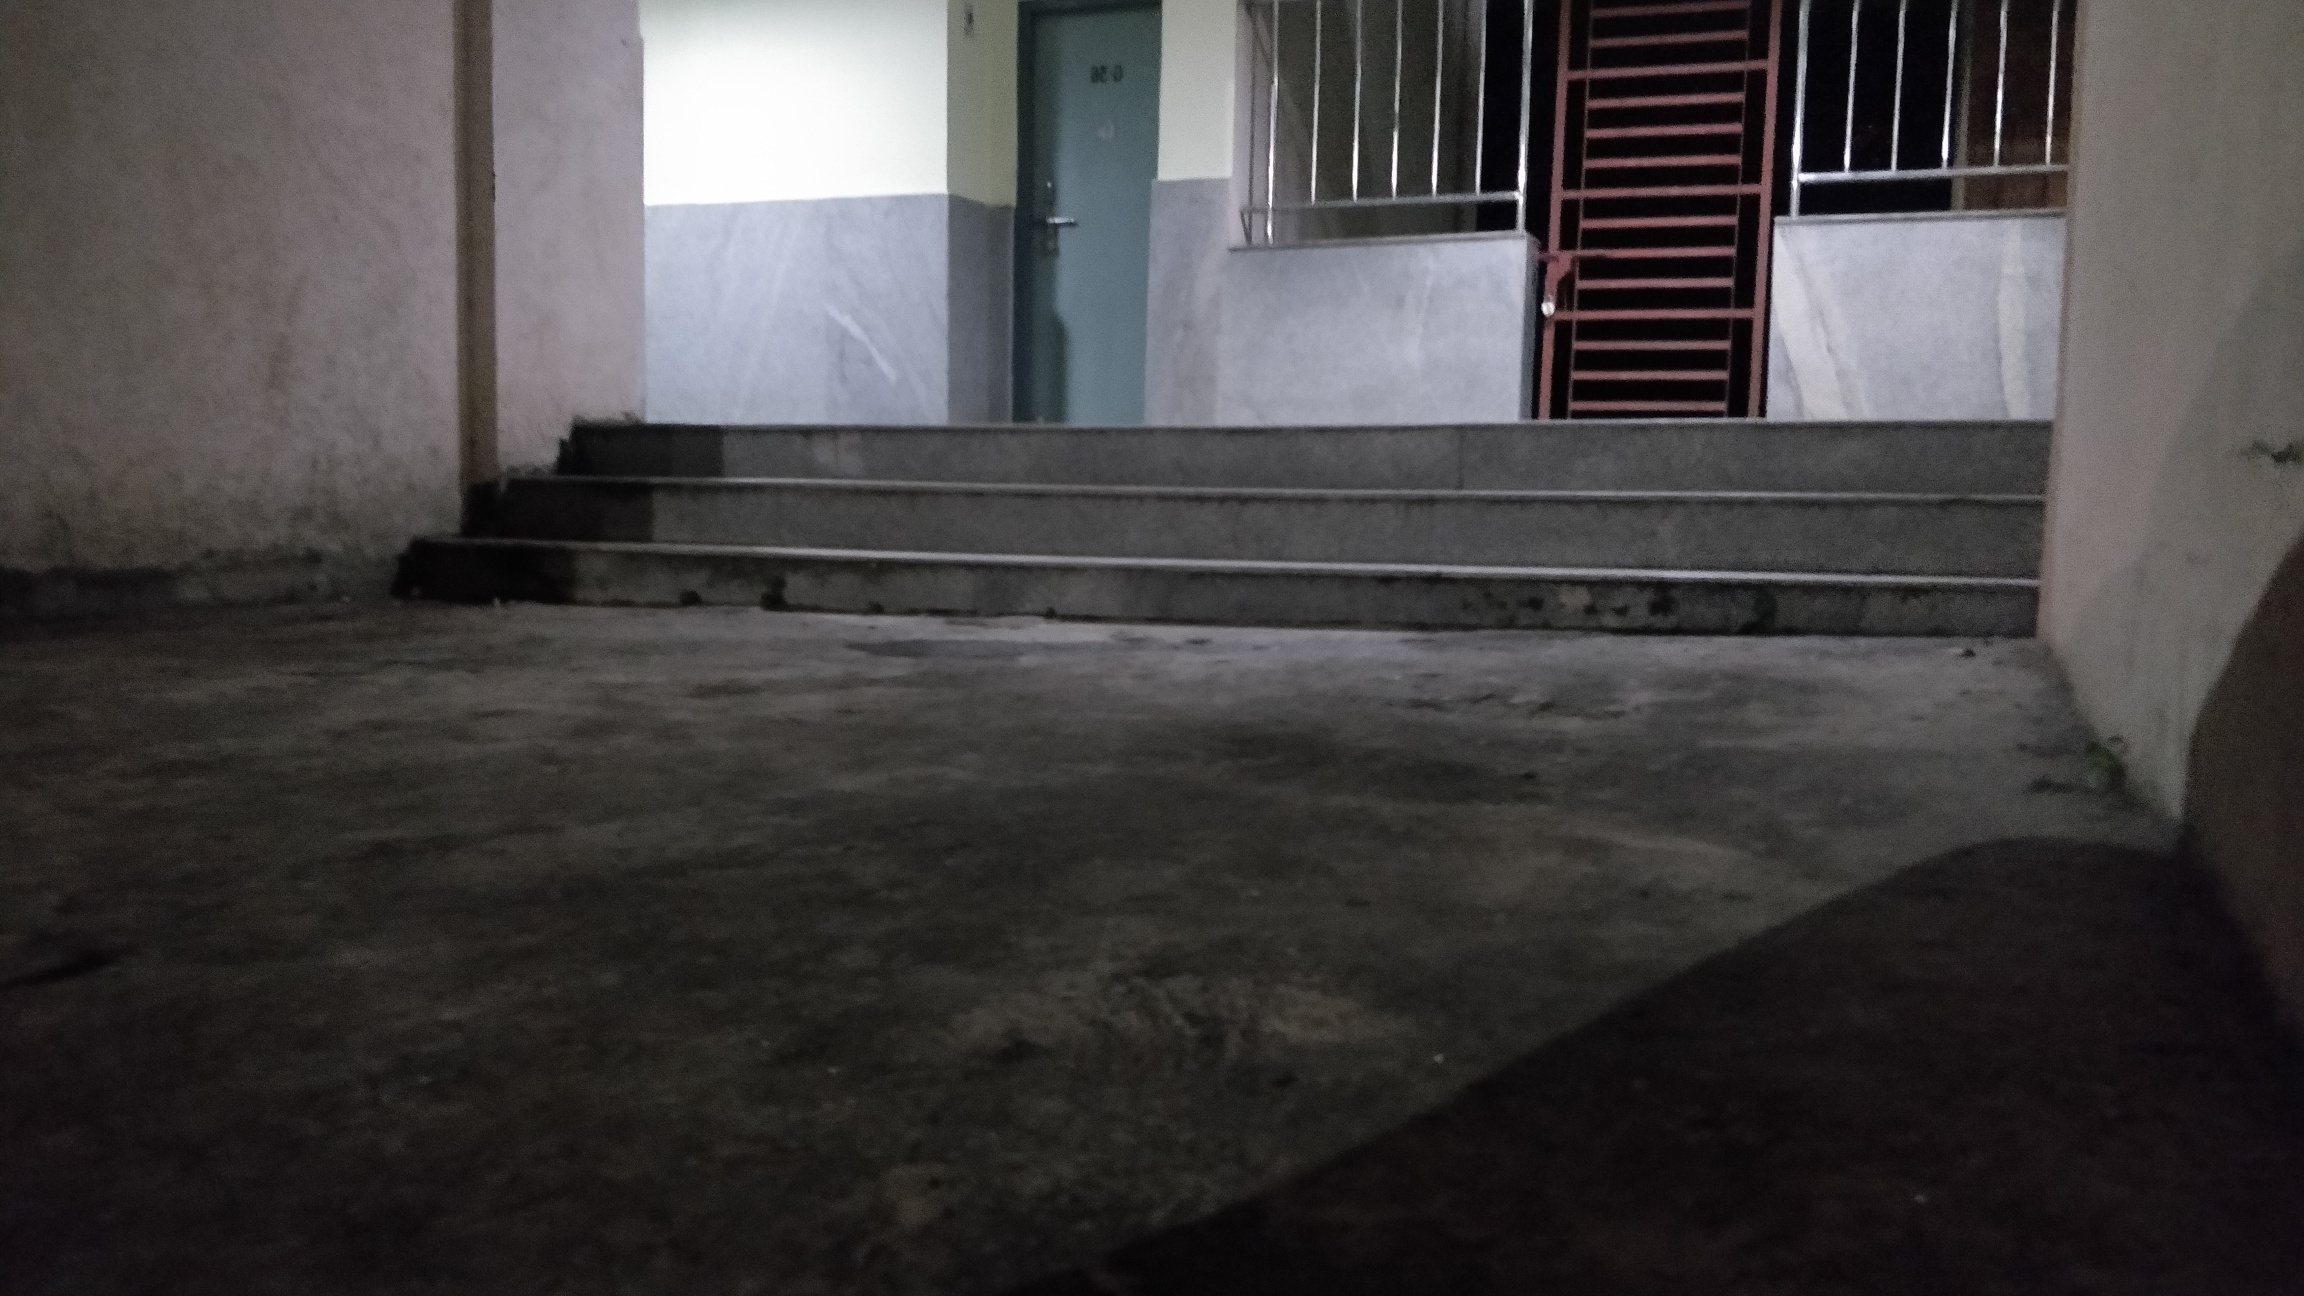stairs_up: (448, 408, 2059, 663)
